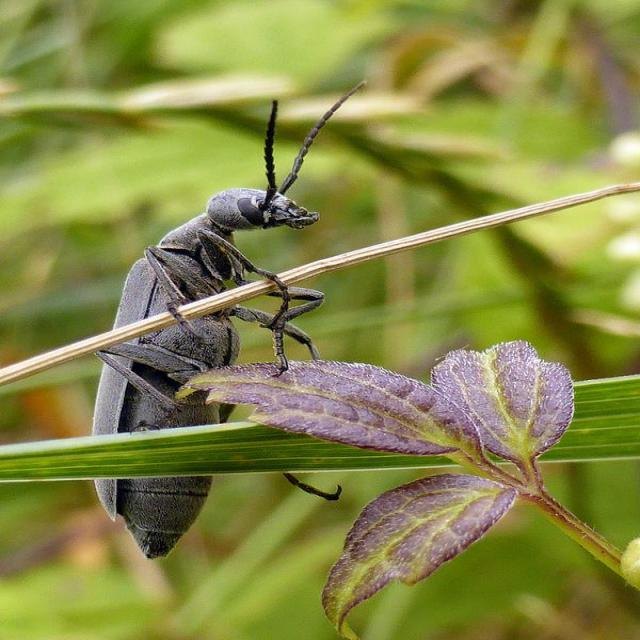BlisterBeetle-Adult-: (82, 69, 374, 560)
